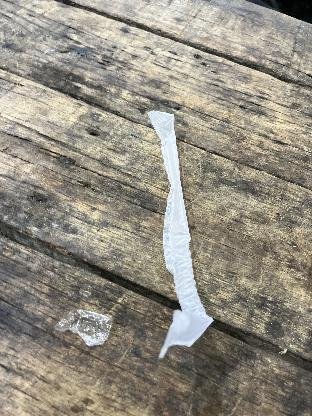Others: (148, 103, 216, 356), (58, 305, 116, 353)
